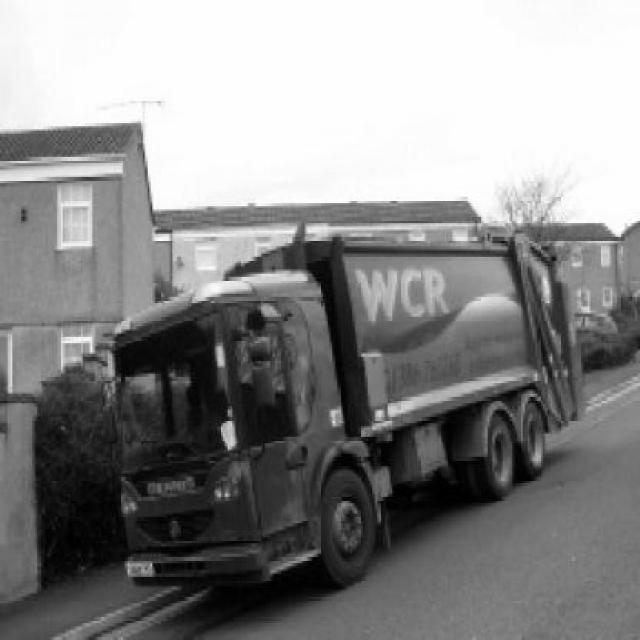Garbage Truck: (110, 227, 587, 594)
